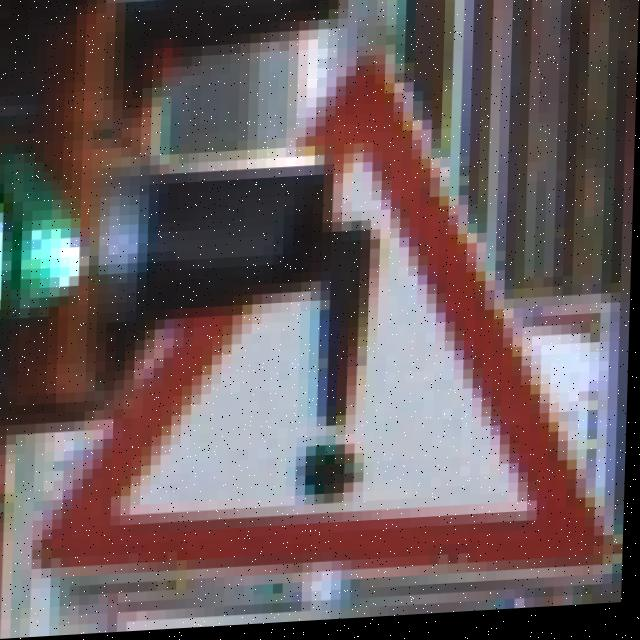warning: (77, 162, 609, 592)
